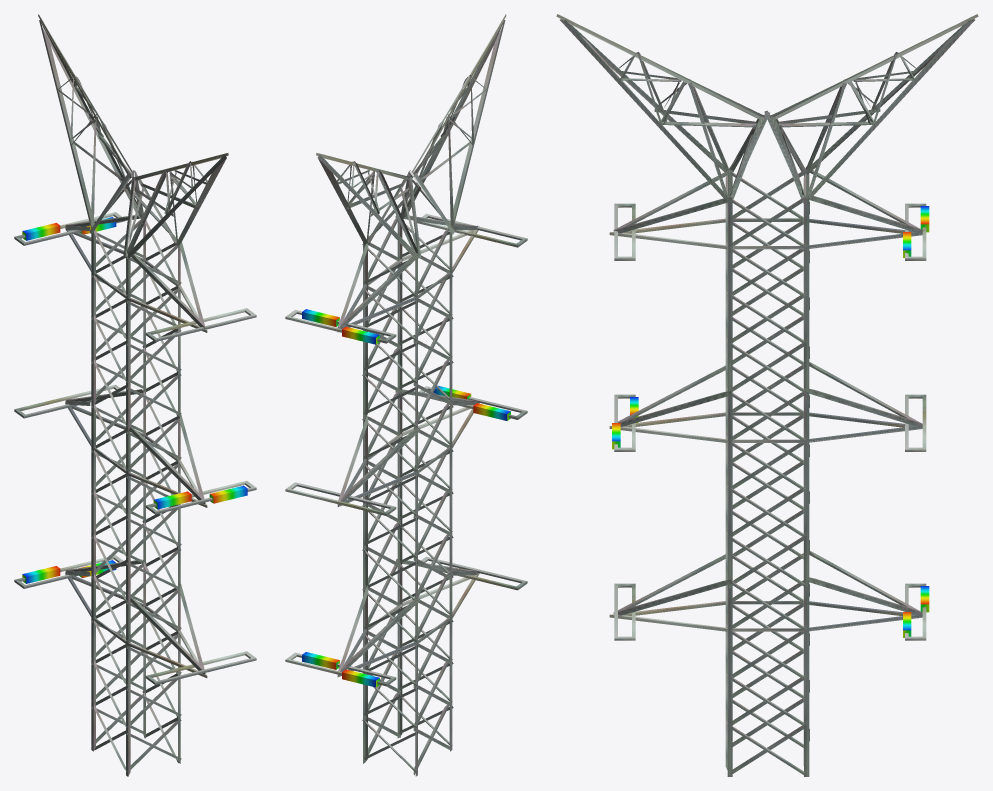
Rendered from electricaltower.glb.
The picture shows the model from 3 angles, left to right: view 1: azimuth 30°, elevation 25°; view 2: azimuth 150°, elevation 25°; view 3: azimuth 270°, elevation 25°; orthographic projection. The views are drawn at different scales.
Visible parts, largest first — view 1: Cube.003, Cube, Cube.002, Cube.001, Cube.007, Cube.011, Cube.008, Cube.012, Cube.013, Cube.009, Cube.010; view 2: Cube.002, Cube.003, Cube, Cube.007, Cube.001, Cube.008, Cube.012, Cube.011, Cube.010, Cube.009, Cube.013; view 3: Cube, Cube.002, Cube.003, Cube.007, Cube.001, Cube.012, Cube.008, Cube.011, Cube.005.
Part boxes in pixels (box(x1,y1,x2,y2)): Cube.003: box(65, 559, 207, 776); Cube: box(65, 214, 207, 430); Cube.002: box(65, 389, 207, 606); Cube.001: box(38, 14, 143, 234); Cube.007: box(123, 153, 228, 259); Cube.011: box(145, 480, 256, 514); Cube.008: box(14, 212, 124, 245); Cube.012: box(14, 555, 123, 588); Cube.013: box(145, 651, 256, 684); Cube.009: box(145, 308, 256, 341); Cube.010: box(14, 384, 124, 418); Cube.002: box(337, 389, 479, 600); Cube.003: box(337, 559, 479, 776); Cube: box(337, 215, 479, 429); Cube.007: box(398, 14, 506, 234); Cube.001: box(316, 152, 421, 259); Cube.008: box(285, 309, 396, 344); Cube.012: box(285, 652, 396, 687); Cube.011: box(419, 385, 527, 420); Cube.010: box(285, 482, 396, 515); Cube.009: box(417, 213, 527, 247); Cube.013: box(421, 556, 527, 590); Cube: box(609, 166, 923, 392); Cube.002: box(609, 362, 922, 588); Cube.003: box(609, 551, 922, 776); Cube.007: box(556, 14, 764, 199); Cube.001: box(770, 14, 978, 203); Cube.012: box(903, 583, 929, 640); Cube.008: box(903, 203, 929, 260); Cube.011: box(612, 394, 638, 451); Cube.005: box(728, 111, 805, 198).
Bounding box in the file's own units: 9.96 × 63.41 × 32.49.
2 materials, 2 textured.
